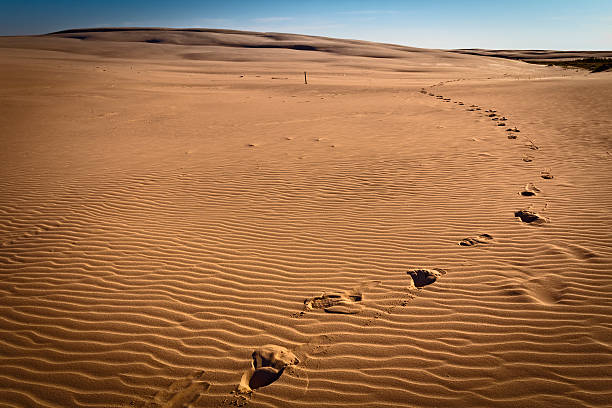human_footprint: (364, 268, 446, 325), (237, 345, 299, 393), (295, 281, 380, 316), (144, 371, 210, 407), (406, 268, 445, 287), (514, 208, 548, 224), (459, 233, 492, 245), (519, 183, 539, 196), (526, 139, 539, 149), (540, 168, 553, 178), (506, 126, 519, 132), (522, 154, 532, 161), (507, 133, 516, 139), (497, 122, 505, 126)
